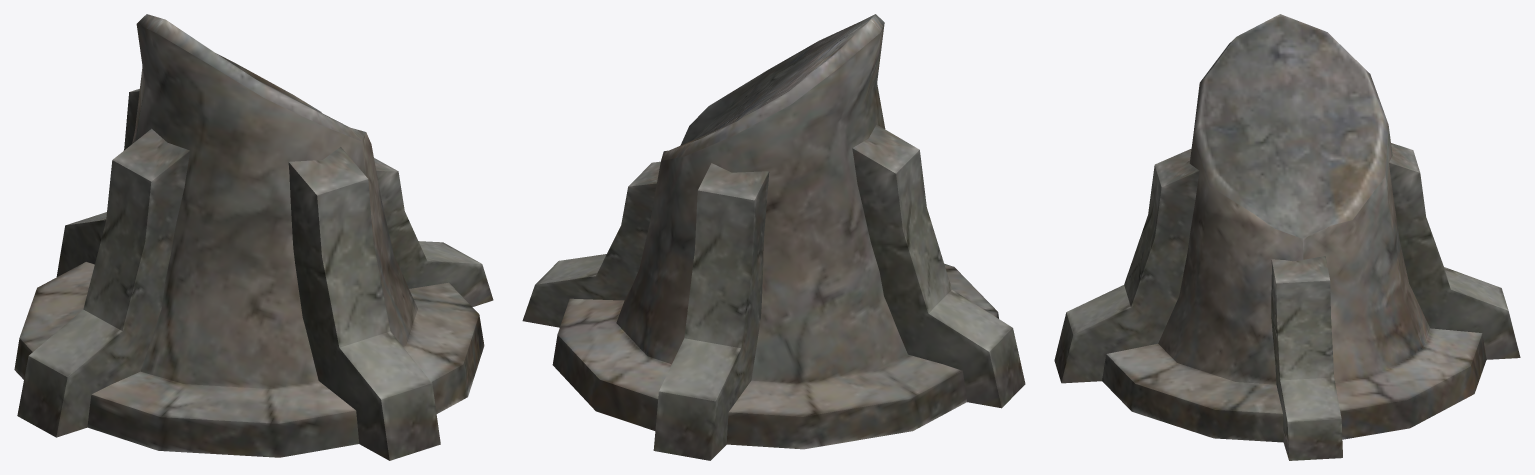
The model's file is Tower_C.fbx.
3 views of the same model, side by side, from view 1: azimuth 30°, elevation 25°; view 2: azimuth 150°, elevation 25°; view 3: azimuth 270°, elevation 25° (orthographic). The views are drawn at different scales.
Visible parts, largest first — view 1: Tower_C__3_; view 2: Tower_C__3_; view 3: Tower_C__3_.
Part boxes in pixels (<box>): Tower_C__3_: <box>14,14,493,460</box>; Tower_C__3_: <box>522,14,1025,460</box>; Tower_C__3_: <box>1054,14,1520,460</box>.
Bounding box in the file's own units: 0.5927 × 0.4355 × 0.5945.
1 material, 1 textured.
